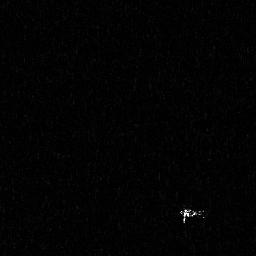ship: (177, 204, 207, 223)
